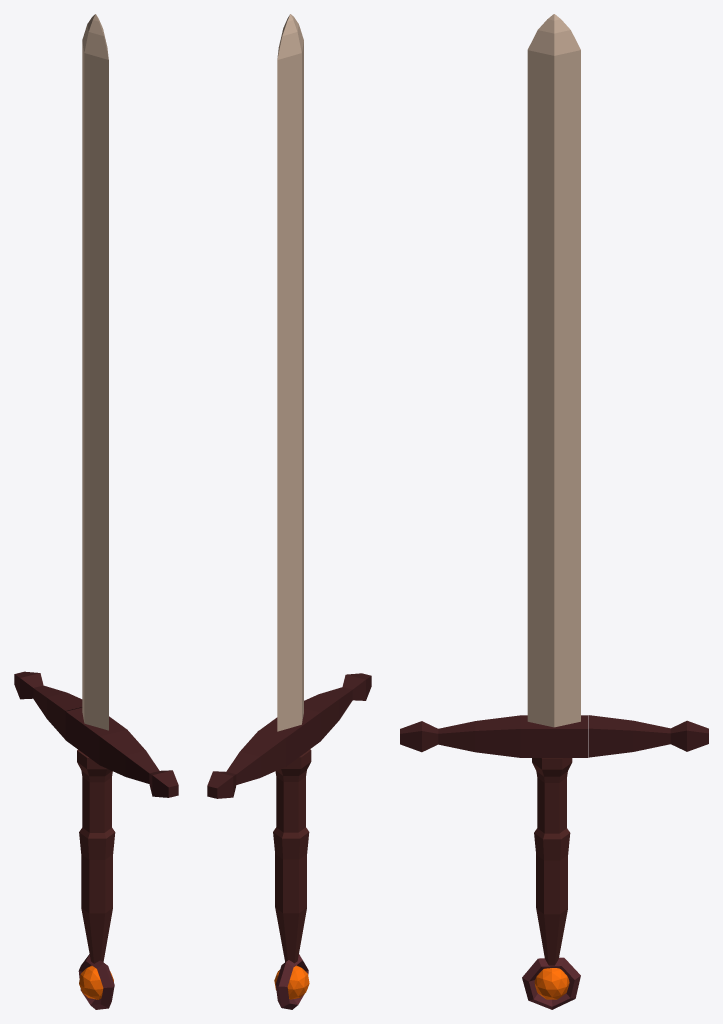
The model's file is Test_Sword.fbx.
3 views of the same model, side by side, from view 1: azimuth 30°, elevation 25°; view 2: azimuth 150°, elevation 25°; view 3: azimuth 270°, elevation 25° (orthographic).
Parts seen in each view (by area): view 1: Blade, Guard, Handle, Ring.001, Gem; view 2: Blade, Guard, Handle, Ring.001, Gem; view 3: Blade, Guard, Handle, Ring.001, Gem.
Part boxes in pixels (box(x1,y1,x2,y2)): Blade: box(82, 14, 108, 730); Guard: box(14, 671, 178, 797); Handle: box(77, 749, 115, 963); Ring.001: box(78, 954, 114, 1009); Gem: box(79, 965, 113, 999); Blade: box(277, 14, 303, 731); Guard: box(207, 673, 371, 798); Handle: box(273, 749, 311, 963); Ring.001: box(275, 954, 308, 1009); Gem: box(274, 965, 309, 999); Blade: box(527, 14, 580, 727); Guard: box(400, 715, 708, 757); Handle: box(532, 758, 572, 965); Ring.001: box(522, 957, 580, 1009); Gem: box(534, 968, 569, 999).
Bounding box in the file's own units: 15.15 × 469 × 132.
